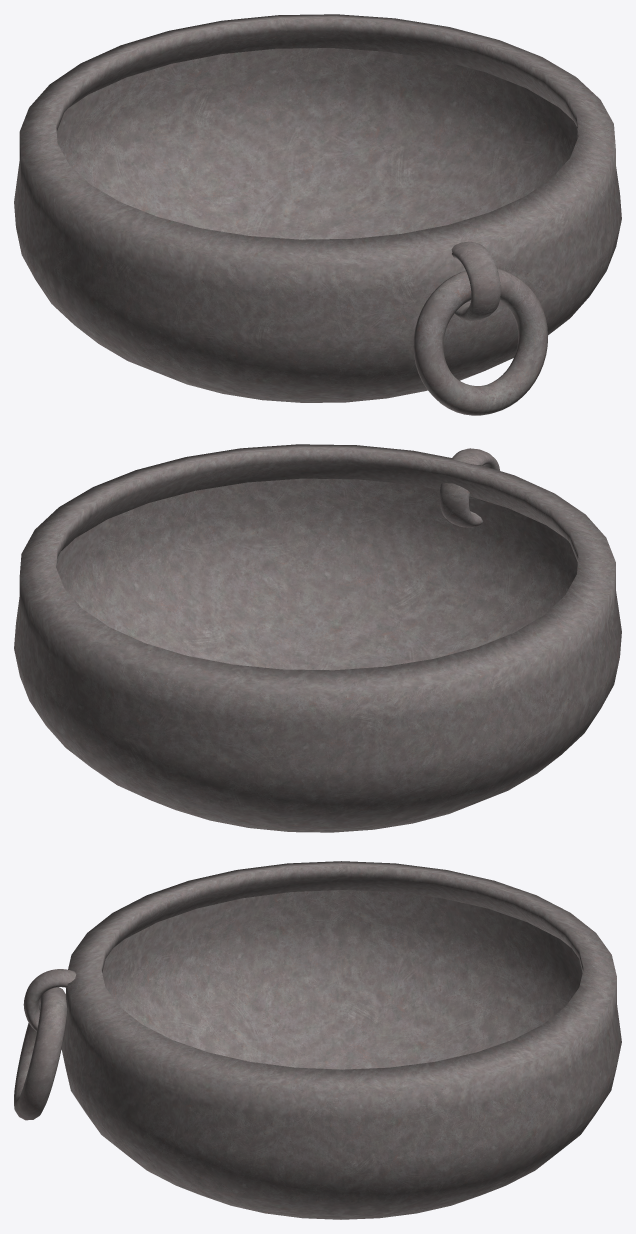
Rendered from pm_cauldron.fbx.
3 views of the same model, one above another, from view 1: azimuth 30°, elevation 25°; view 2: azimuth 150°, elevation 25°; view 3: azimuth 270°, elevation 25° (orthographic). The views are drawn at different scales.
Visible parts, largest first — view 1: Cauldron; view 2: Cauldron; view 3: Cauldron.
Boxes of the visible parts, bbox=[...] form: Cauldron: bbox=[14, 14, 621, 415]; Cauldron: bbox=[14, 444, 621, 832]; Cauldron: bbox=[14, 861, 621, 1219].
Size of the model in its own units: 200 by 81.37 by 216.
1 material, 1 textured.
